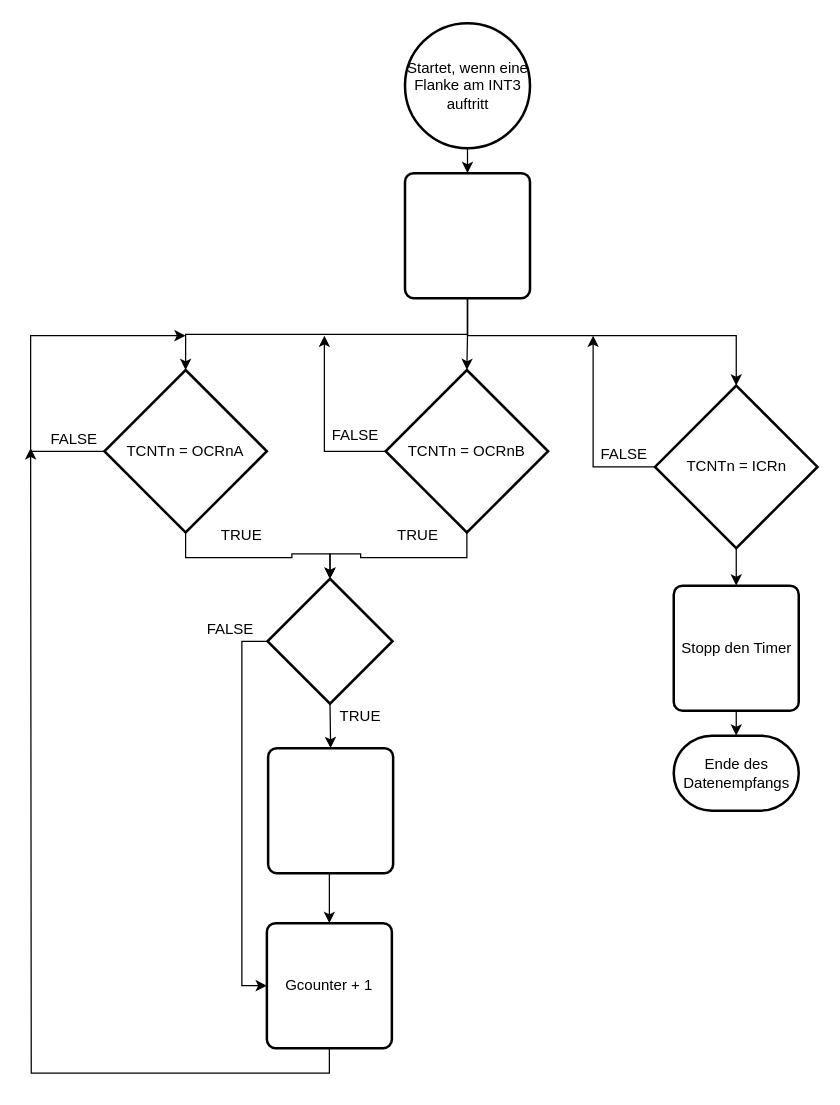
Image size: 840x1105. Some labels were removed from this diagram. The box of each missing label's shape, as (x1, y1, x2, y2) in pixels:
Gcounter = -4: (403, 171, 531, 299)
Gcounter >= 0: (266, 577, 393, 704)
Speichere Bit in Empfangsarray: (266, 746, 394, 874)
